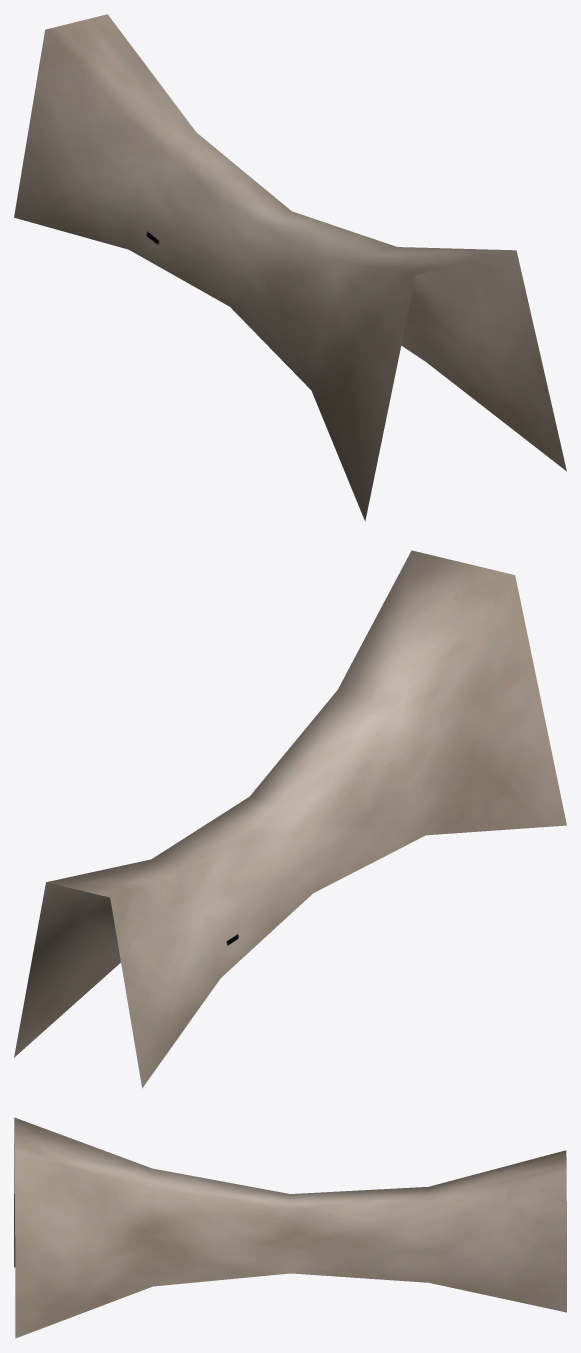
The model's file is web_16.fbx.
3 views of the same model, one above another, from view 1: azimuth 30°, elevation 25°; view 2: azimuth 150°, elevation 25°; view 3: azimuth 270°, elevation 25° (orthographic). The views are drawn at different scales.
Parts seen in each view (by area): view 1: mine_tileset/mine_web03_mat; view 2: mine_tileset/mine_web03_mat; view 3: mine_tileset/mine_web03_mat.
Part boxes in pixels (x1,y1,x2,y2): mine_tileset/mine_web03_mat: (14,14,566,521); mine_tileset/mine_web03_mat: (14,550,566,1088); mine_tileset/mine_web03_mat: (14,1117,566,1338).
Size of the model in its own units: 2.9 by 3.2 by 9.55.
